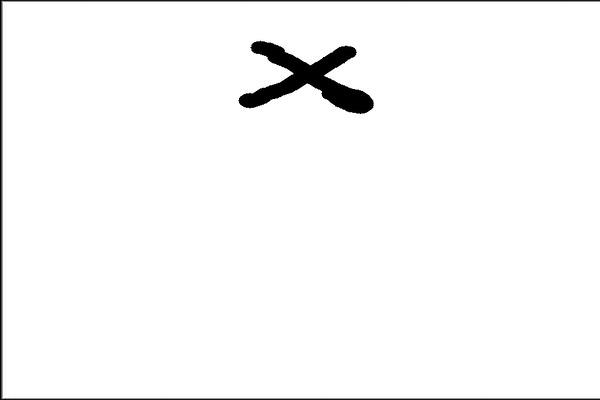X: (224, 30, 381, 132)
